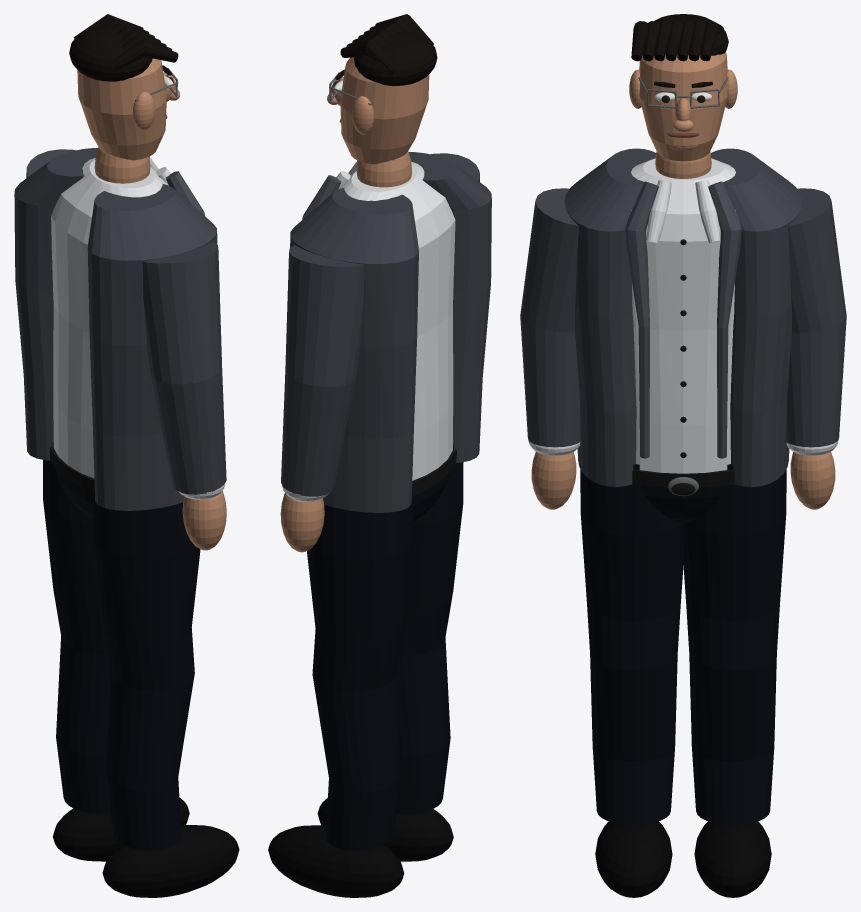
Rendered from person.dae.
3 views of the same model, side by side, from view 1: azimuth 30°, elevation 25°; view 2: azimuth 150°, elevation 25°; view 3: azimuth 270°, elevation 25° (orthographic).
Parts seen in each view (by area): view 1: Person; view 2: Person; view 3: Person.
Boxes of the visible parts, <box> form: Person: <box>14,14,239,897</box>; Person: <box>268,14,491,897</box>; Person: <box>520,14,846,897</box>.
Bounding box in the file's own units: 0.3462 × 0.6257 × 1.8.
